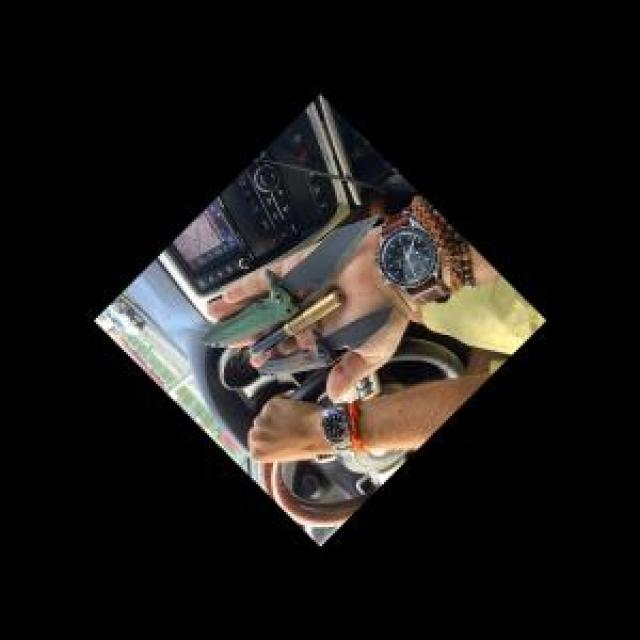knife: (243, 305, 395, 383), (202, 277, 298, 351)
